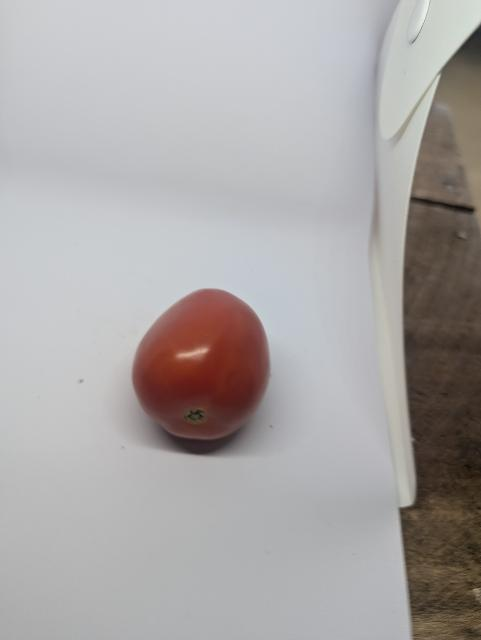red: (115, 283, 295, 449)
